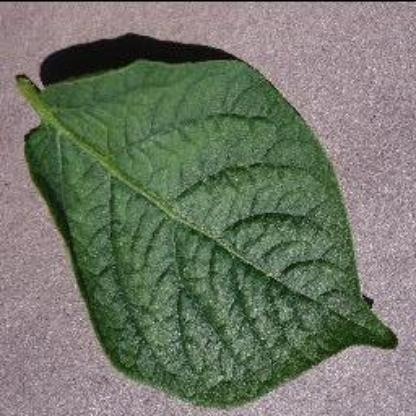Healthy-plant: (13, 51, 403, 409)
